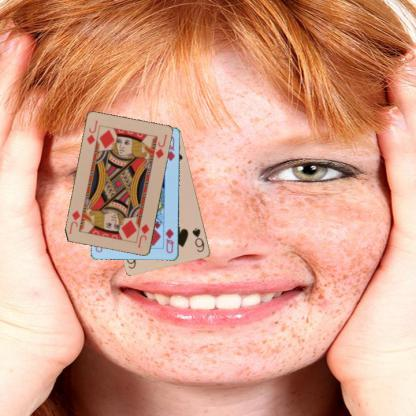6s: (190, 225, 206, 254)
Jd: (135, 221, 151, 249), (84, 119, 100, 146)
Qd: (163, 226, 175, 254)
